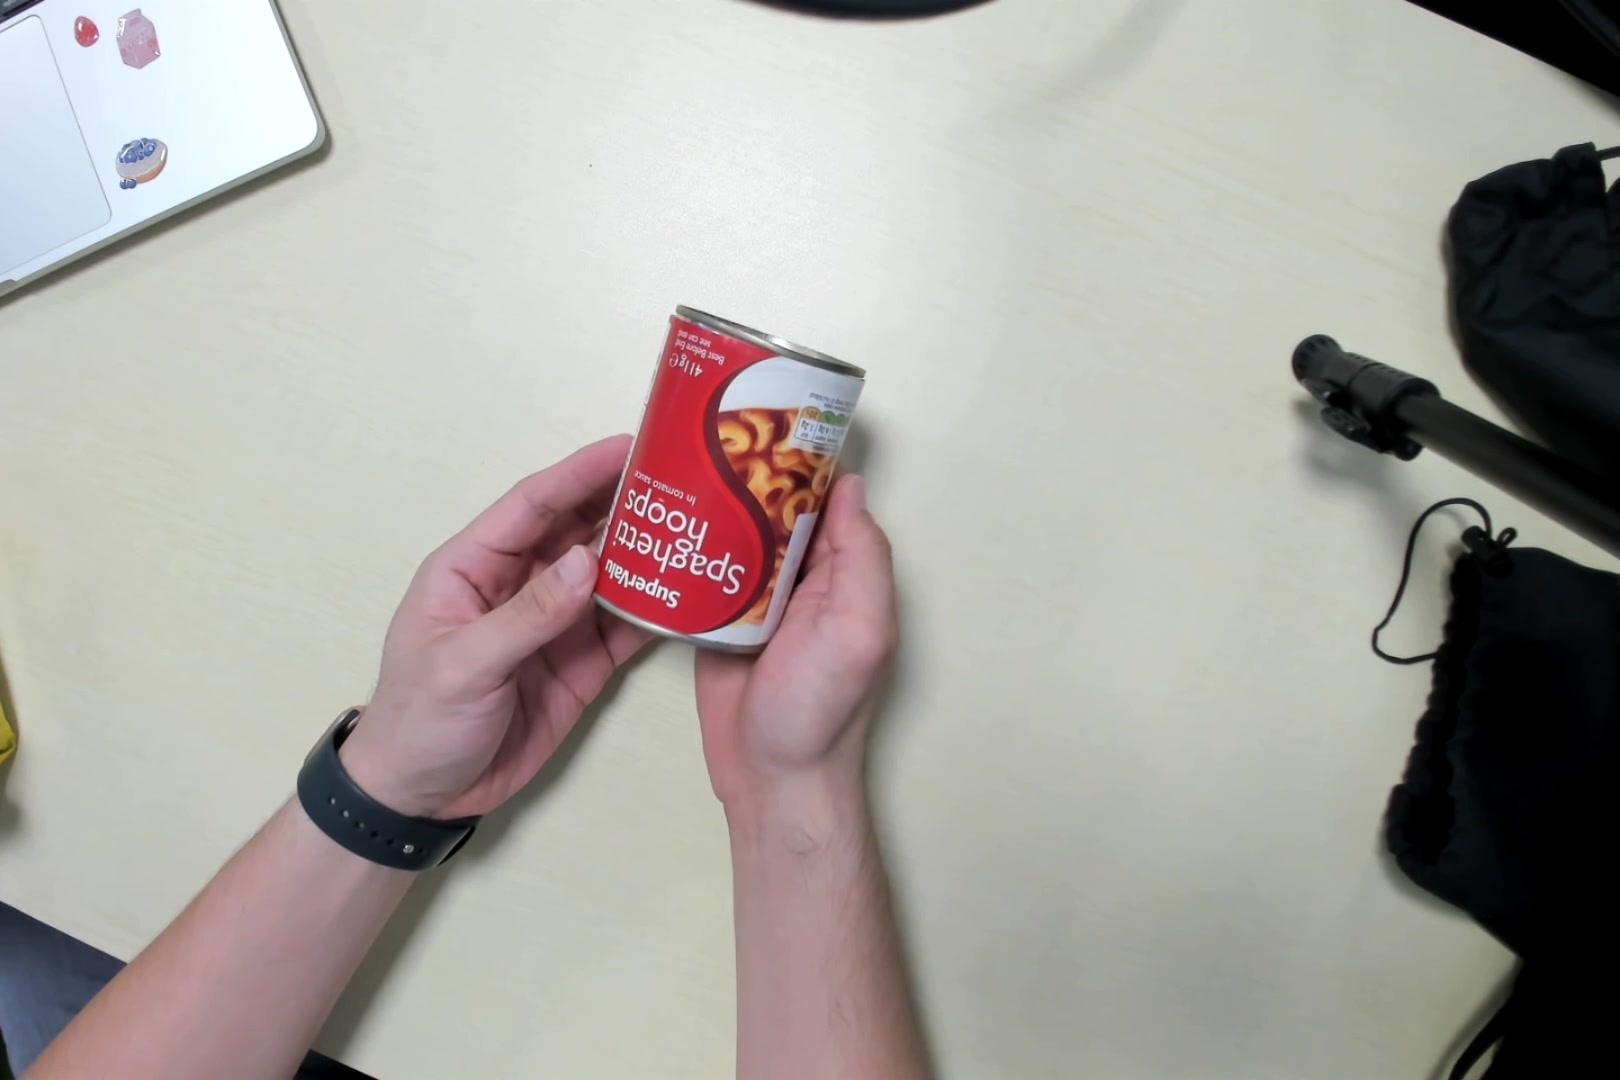InstantMeals_400-499g_NonHalal_NonHealthy: (588, 309, 846, 659)
